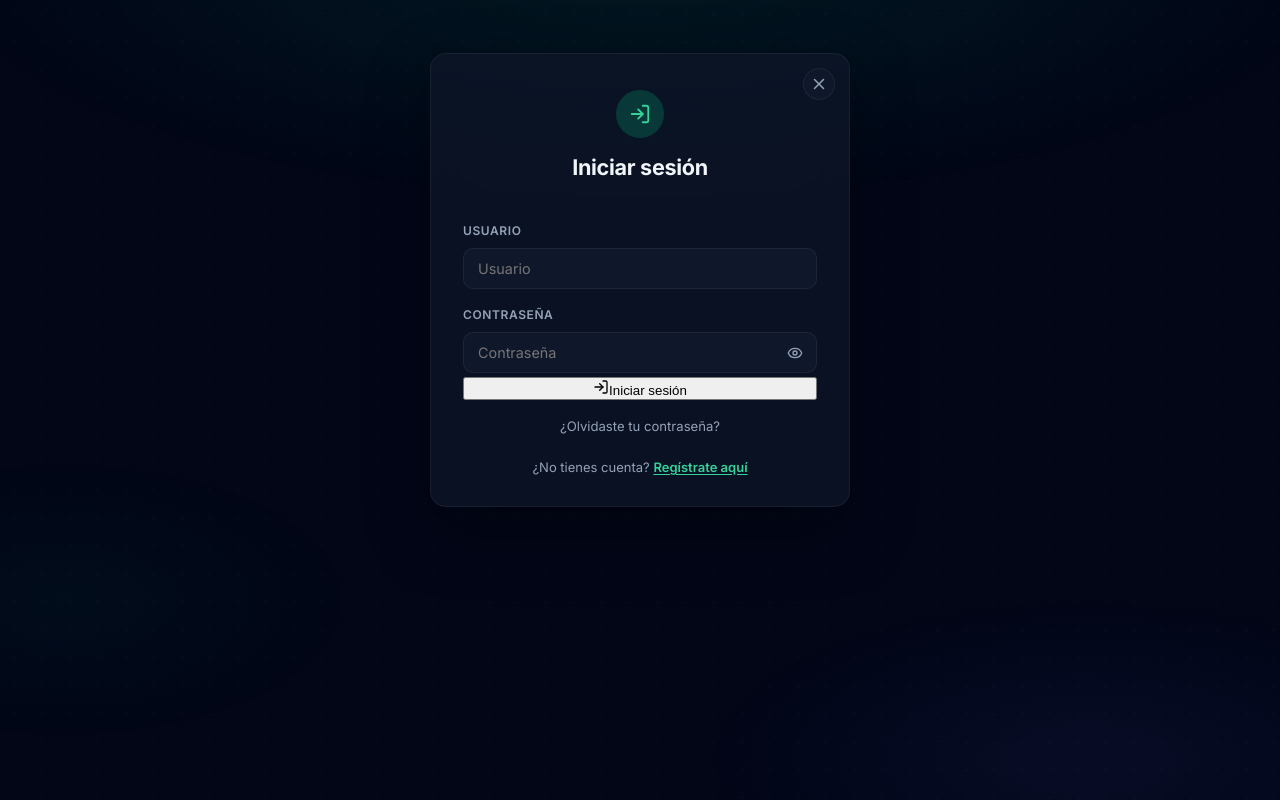
it: Auth › cambia a modo register al hacer toggle
The width and height of the screenshot is (1280, 800).
Click the button "Regístrate aquí" at (700, 467), box [653,459,748,475]
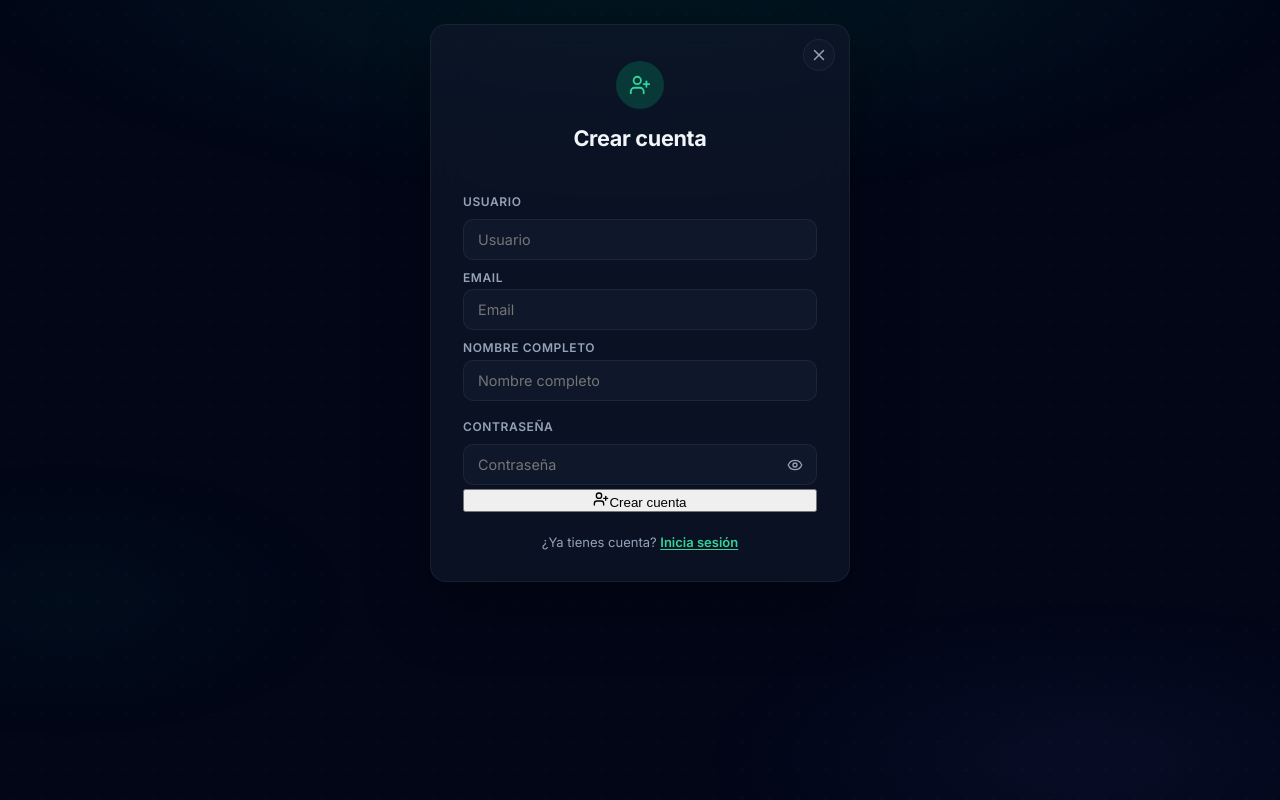
Expected: the field with placeholder "Email" is shown, [463,289,817,330]
